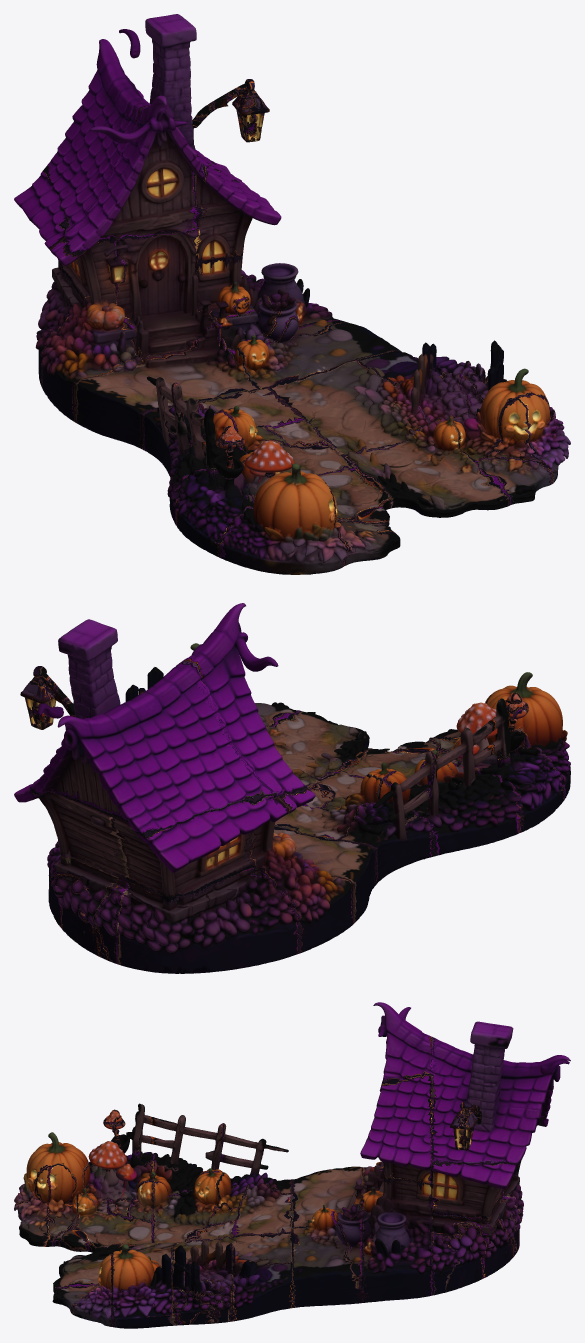
The model's file is Casa_da_bruxa_otimizada.glb.
3 renders of one model, top to bottom at view 1: azimuth 30°, elevation 25°; view 2: azimuth 150°, elevation 25°; view 3: azimuth 270°, elevation 25°, orthographic. The views are drawn at different scales.
Parts seen in each view (by area): view 1: world; view 2: world; view 3: world.
Boxes of the visible parts, bbox=[...] form: world: bbox=[14, 14, 570, 574]; world: bbox=[14, 603, 570, 973]; world: bbox=[14, 1002, 570, 1328].
Size of the model in its own units: 0.6189 by 0.4777 by 0.9997.
1 material, 1 textured.
